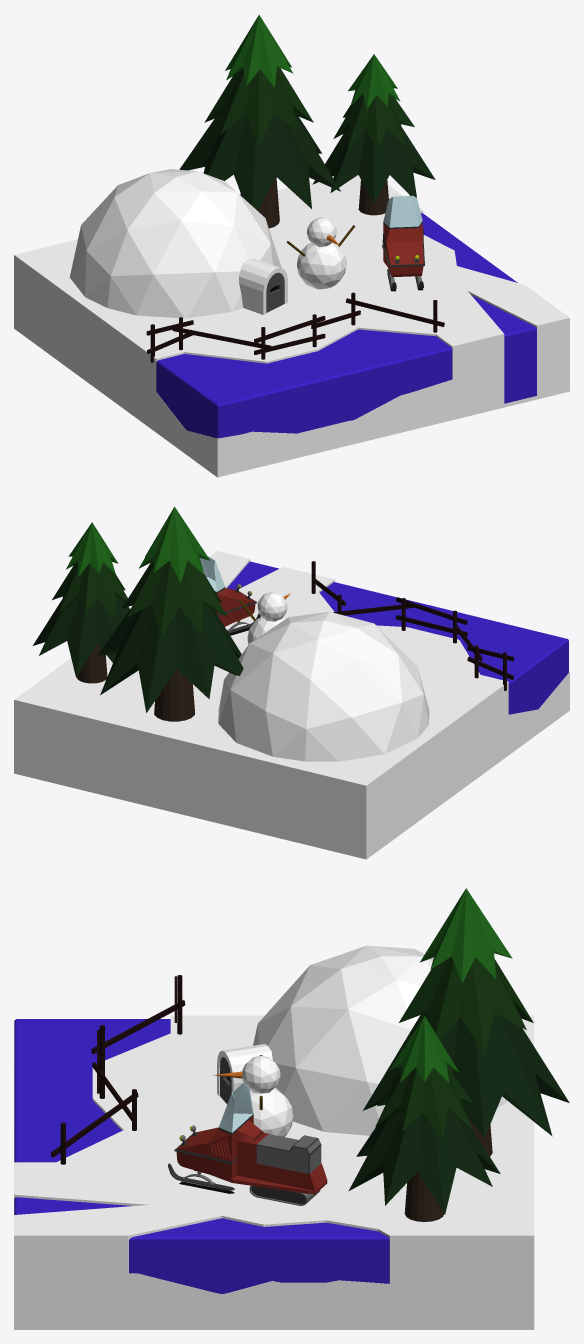
The model's file is Winter.fbx.
The picture shows the model from 3 angles, top to bottom: view 1: azimuth 30°, elevation 25°; view 2: azimuth 150°, elevation 25°; view 3: azimuth 270°, elevation 25°; orthographic projection. The views are drawn at different scales.
Visible parts, largest first — view 1: winter=base=, igloo, tree01, tree00, snowmobile, fence, snowman, door; view 2: winter=base=, igloo, tree01, tree00, fence, snowmobile, snowman; view 3: winter=base=, igloo, tree01, tree00, snowmobile, fence, snowman, sheet.
Part boxes in pixels (box(x1,y1,x2,y2)): winter=base=: box(14, 175, 569, 477); igloo: box(69, 169, 287, 318); tree01: box(179, 14, 340, 228); tree00: box(312, 54, 435, 215); snowmobile: box(382, 195, 424, 289); fence: box(146, 292, 444, 362); snowman: box(286, 217, 355, 289); door: box(266, 272, 284, 312); winter=base=: box(14, 551, 569, 859); igloo: box(218, 611, 429, 761); tree01: box(97, 506, 243, 721); tree00: box(33, 522, 131, 683); fence: box(311, 561, 513, 690); snowmobile: box(200, 556, 260, 633); snowman: box(239, 592, 290, 644); winter=base=: box(14, 1015, 534, 1329); igloo: box(217, 945, 506, 1135); tree01: box(363, 888, 569, 1156); tree00: box(348, 1016, 500, 1221); snowmobile: box(168, 1083, 327, 1205); fence: box(51, 975, 185, 1164); snowman: box(213, 1055, 293, 1136); sheet: box(256, 1134, 321, 1173).
Size of the model in its own units: 107 by 76 by 107.
